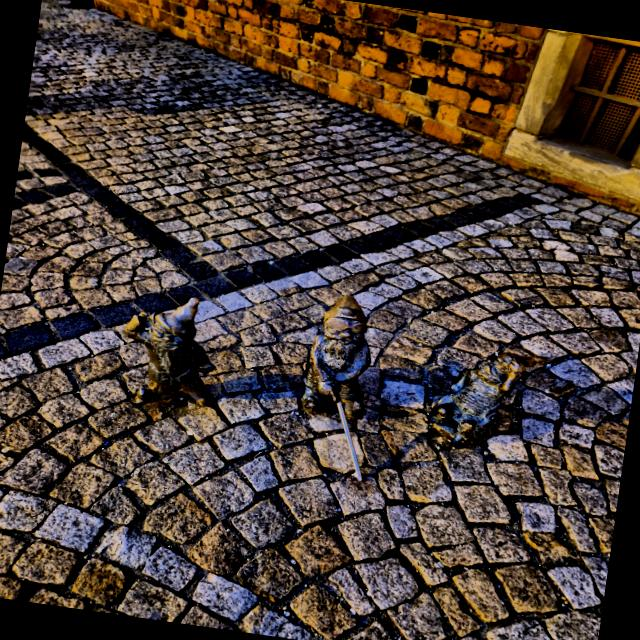Gluchak: (123, 298, 215, 406)
Slepak: (299, 294, 371, 481)
W-Skers: (425, 352, 554, 447)
